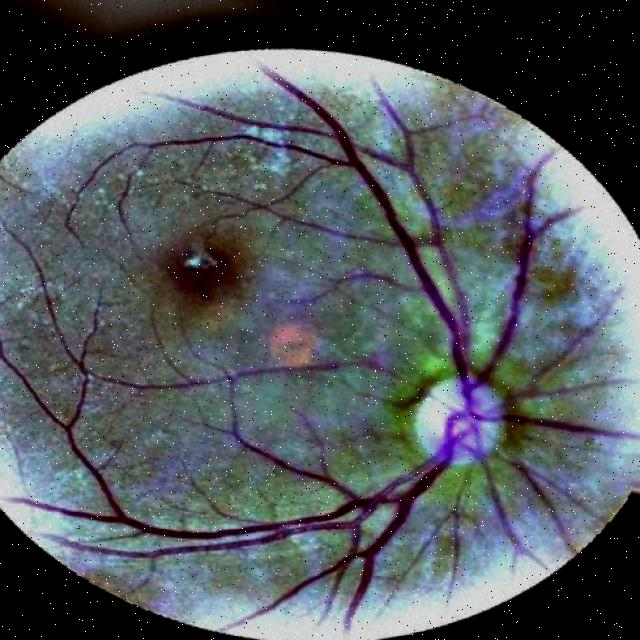Macula: (175, 256, 230, 295)
Nerves: (136, 69, 640, 443), (1, 337, 465, 623), (466, 445, 547, 569), (498, 457, 575, 549), (179, 102, 328, 136), (522, 381, 623, 402), (396, 376, 447, 413)
Optic Disk: (413, 377, 505, 465)
